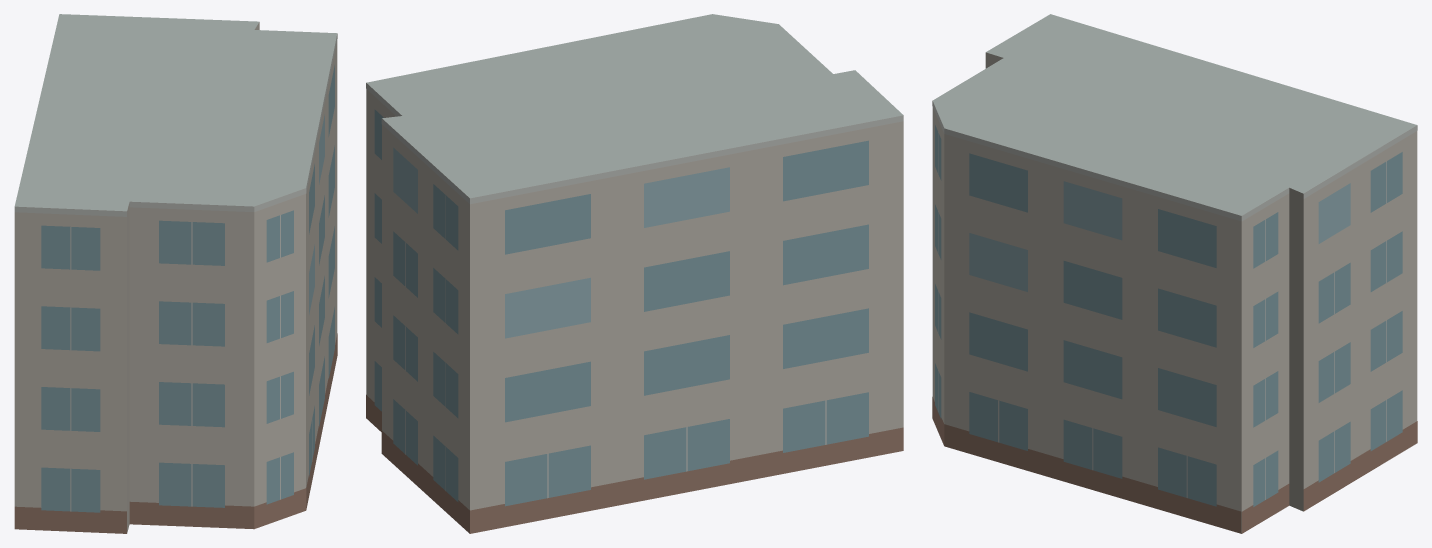
Rendered from survey-upis-32866772.glb.
The picture shows the model from 3 angles, left to right: view 1: azimuth 30°, elevation 25°; view 2: azimuth 150°, elevation 25°; view 3: azimuth 270°, elevation 25°; orthographic projection. The views are drawn at different scales.
Parts seen in each view (by area): view 1: survey-upis-32866772.tmp; view 2: survey-upis-32866772.tmp; view 3: survey-upis-32866772.tmp.
Boxes of the visible parts, left/top/right/bottom form: survey-upis-32866772.tmp: left=14, top=14, right=337, bottom=533; survey-upis-32866772.tmp: left=366, top=14, right=903, bottom=533; survey-upis-32866772.tmp: left=932, top=14, right=1417, bottom=533.
Bounding box in the file's own units: 18.94 × 13.9 × 19.22.
